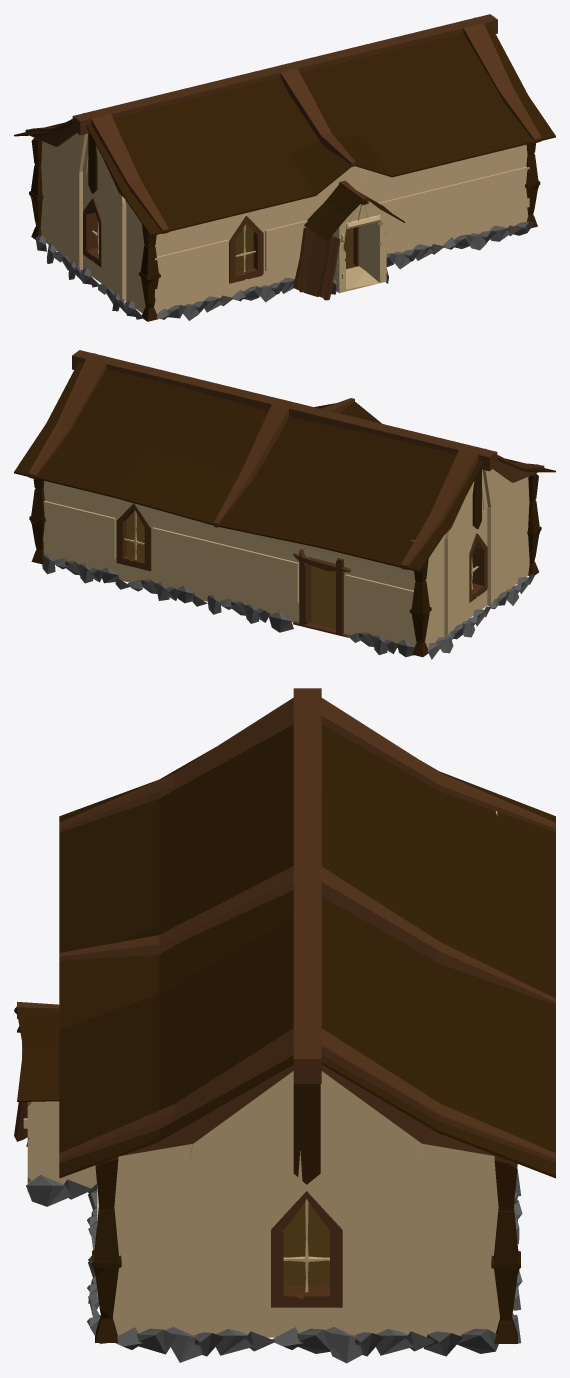
Rendered from House-New.fbx.
3 renders of one model, top to bottom at view 1: azimuth 30°, elevation 25°; view 2: azimuth 150°, elevation 25°; view 3: azimuth 270°, elevation 25°, orthographic. The views are drawn at different scales.
Visible parts, largest first — view 1: RoofPlt, FrontWall, SideWallL, RoofJoins, Icosphere.084, FrontDoorEntry, WoodenDoor, DoorRoof, FrontWindowFrame, PL, LeftSWindowFrame, Floor (+2 smaller); view 2: RoofPlt, BackWall, SideWallL, RoofJoins, Icosphere.084, Floor, BackDoorFrame, BackWindowFrame, PBL, LeftSWindowFrame, PL, PBR; view 3: RoofPlt, SideWallR, RoofJoins, Icosphere.084, RightSWindowFrame, DoorRoof, PBR, PR, FrontDoorEntry, Floor.
Part boxes in pixels (x1,y1,x2,y2): RoofPlt: (14, 14, 555, 236); FrontWall: (154, 144, 529, 313); SideWallL: (40, 133, 145, 313); RoofJoins: (25, 17, 541, 233); Icosphere.084: (35, 221, 534, 320); FrontDoorEntry: (333, 201, 386, 293); WoodenDoor: (293, 227, 340, 300); DoorRoof: (304, 180, 405, 241); FrontWindowFrame: (229, 216, 263, 283); PL: (139, 224, 160, 321); LeftSWindowFrame: (83, 198, 101, 267); Floor: (235, 223, 354, 271); RoofPlt: (14, 350, 555, 571); BackWall: (43, 481, 416, 647); SideWallL: (424, 469, 529, 648); RoofJoins: (28, 353, 544, 569); Icosphere.084: (42, 554, 534, 659); Floor: (126, 511, 335, 628); BackDoorFrame: (293, 549, 350, 637); BackWindowFrame: (116, 503, 151, 571); PBL: (409, 559, 431, 657); LeftSWindowFrame: (469, 533, 487, 602); PL: (527, 473, 541, 575); PBR: (29, 479, 45, 564); RoofPlt: (59, 688, 555, 1184); SideWallR: (113, 1071, 499, 1337); RoofJoins: (59, 698, 555, 1162); Icosphere.084: (26, 1142, 522, 1363); RightSWindowFrame: (271, 1191, 342, 1307); DoorRoof: (14, 1001, 59, 1101); PBR: (491, 1155, 520, 1343); PR: (92, 1157, 121, 1342); FrontDoorEntry: (22, 1042, 96, 1191); Floor: (283, 1202, 329, 1287).
Size of the model in its own units: 2204 by 883 by 1363.
